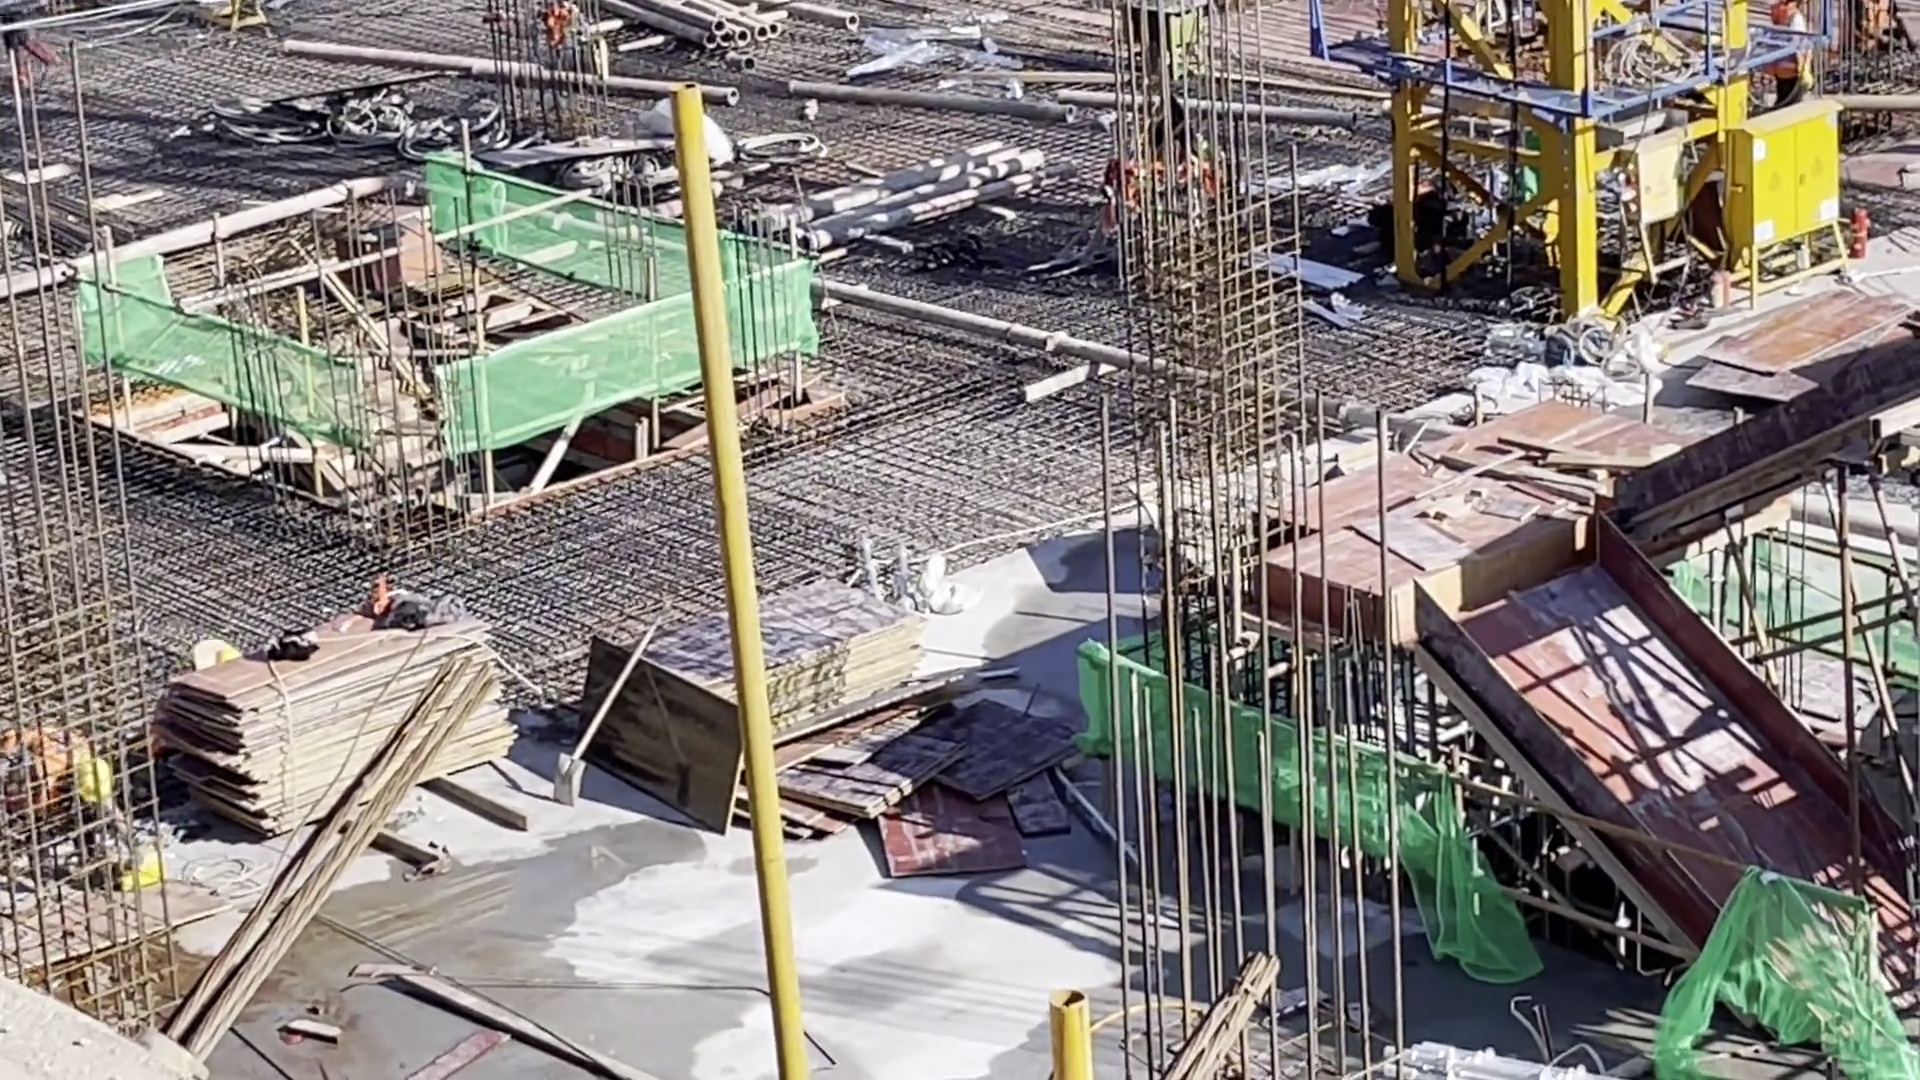board: (164, 603, 512, 841), (640, 571, 922, 771)
ebox: (1720, 92, 1863, 306), (1611, 124, 1706, 287)
handcart: (258, 78, 414, 142)
